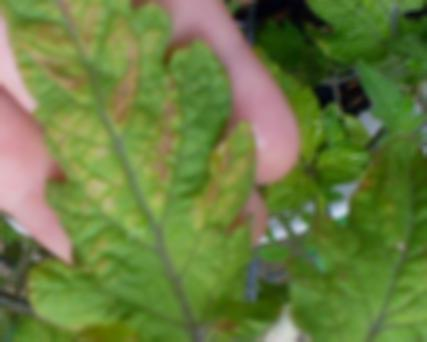Tomato leaf bacterial spot: (0, 0, 268, 342), (274, 122, 427, 342)
